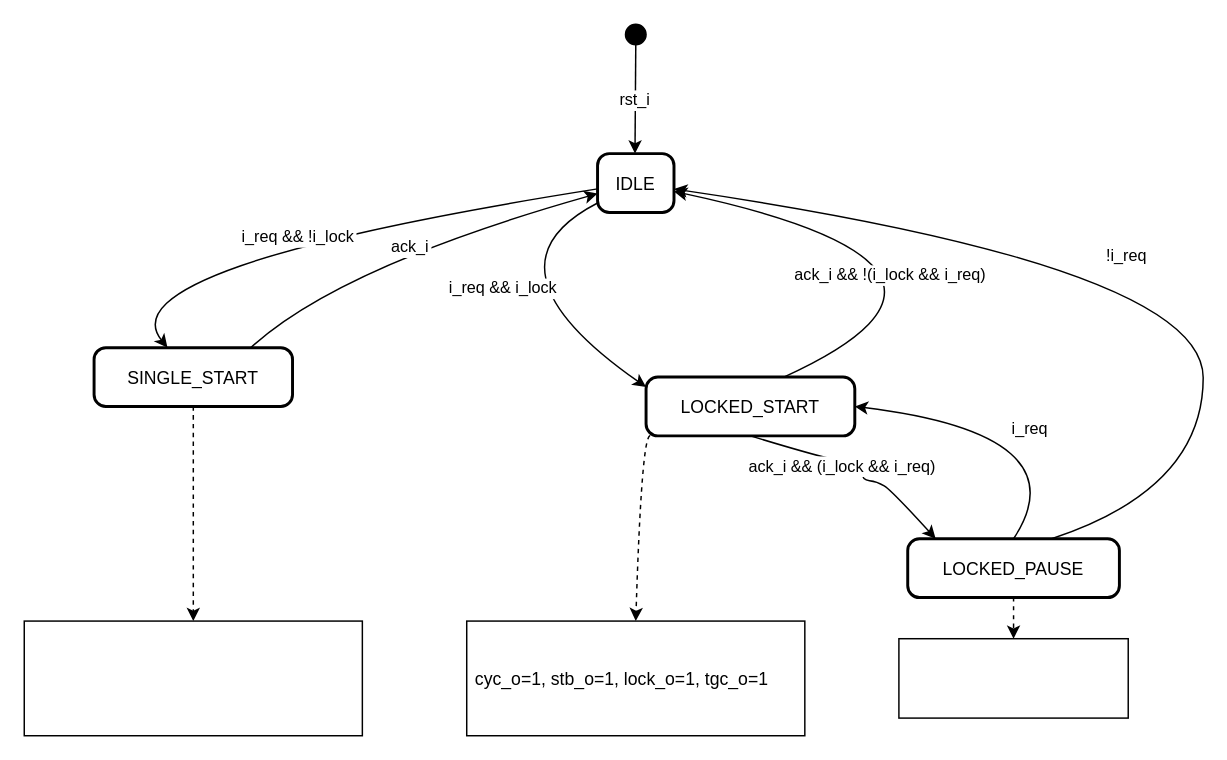
Some shapes in this 1227 by 760 pixel diagram are drawn without their labels. The centre of each missing label's shape, as x and y in pixels:
"cyc_o=1, stb_o=0" belongs at pixel 1012 677.
"cyc_o=1, stb_o=1, lock_o=0, tgc_o=0" belongs at pixel 192 678.
